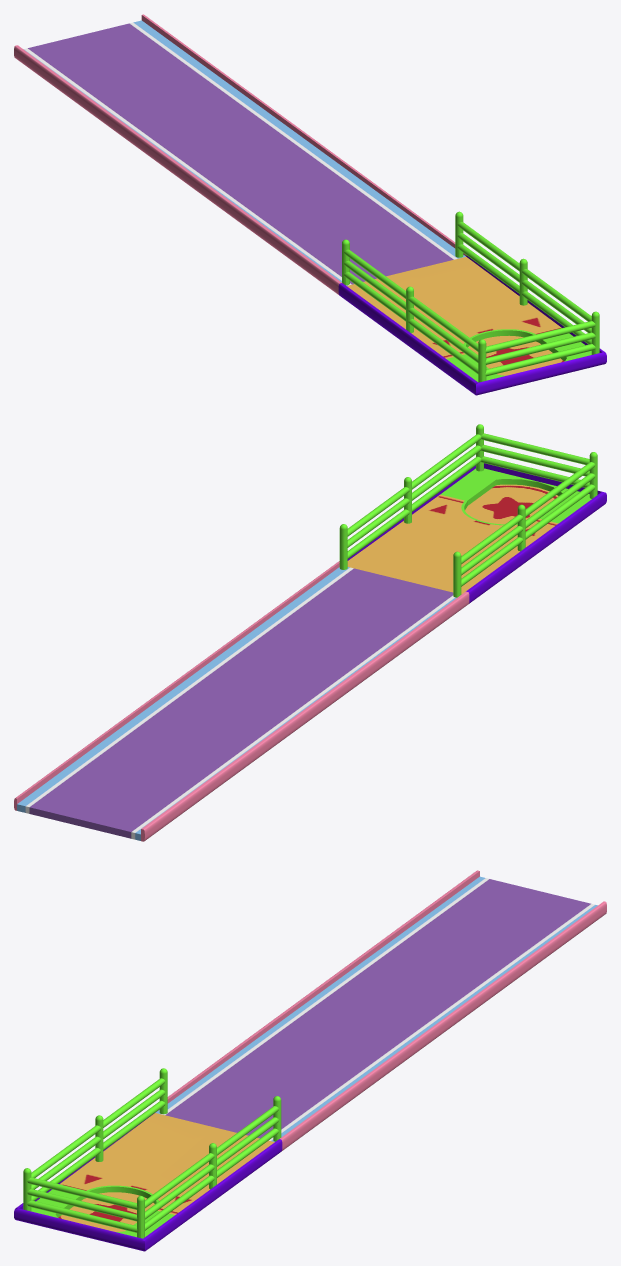
Rendered from Finish25M.fbx.
3 renders of one model, top to bottom at view 1: azimuth 30°, elevation 25°; view 2: azimuth 150°, elevation 25°; view 3: azimuth 330°, elevation 25°, orthographic.
Visible parts, largest first — view 1: Road, Road_Side, Rail; view 2: Road, Rail, Road_Side; view 3: Road, Road_Side, Rail.
Boxes of the visible parts, x1,y1,x2,y2 form: Road: [23, 20, 591, 381]; Road_Side: [14, 14, 606, 395]; Rail: [342, 211, 599, 382]; Road: [17, 468, 591, 840]; Rail: [339, 424, 597, 597]; Road_Side: [14, 463, 606, 841]; Road: [31, 876, 597, 1237]; Road_Side: [14, 870, 606, 1251]; Rail: [23, 1068, 281, 1238].
Size of the model in its own units: 410 by 156 by 2507.
